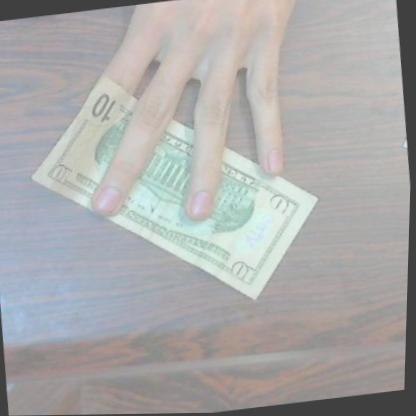dollar_back: (18, 52, 332, 328)
